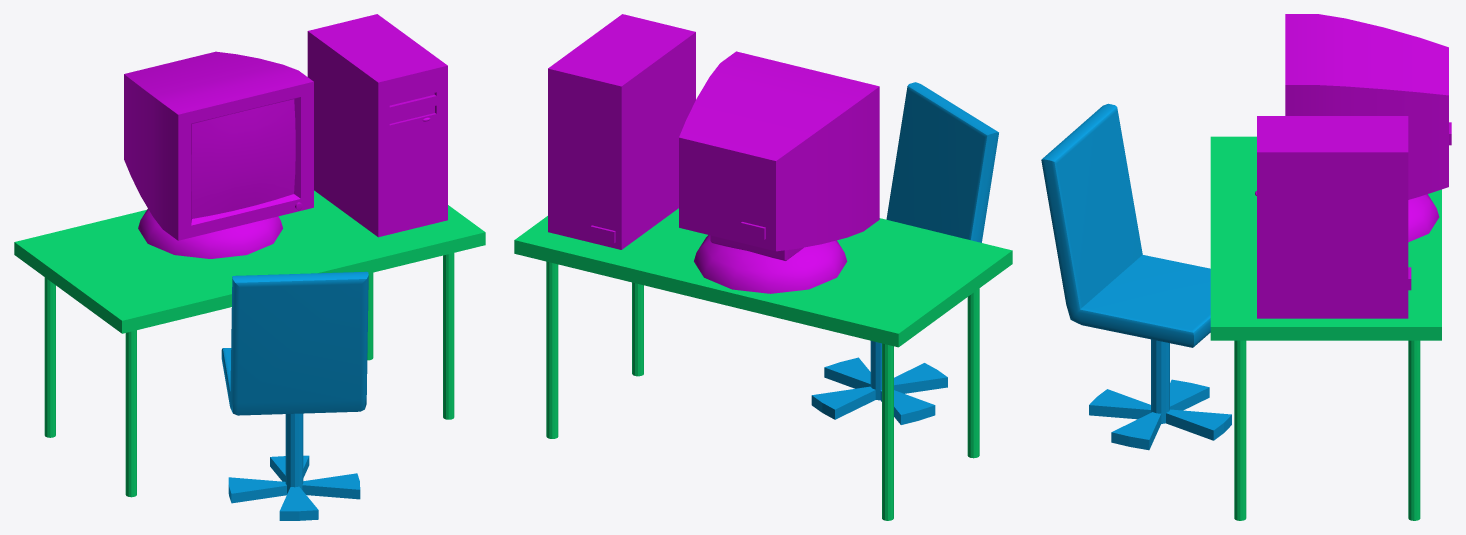
The model's file is gamejam_00.fbx.
The picture shows the model from 3 angles, left to right: view 1: azimuth 30°, elevation 25°; view 2: azimuth 150°, elevation 25°; view 3: azimuth 270°, elevation 25°; orthographic projection. The views are drawn at different scales.
Visible parts, largest first — view 1: table, pCube4, pCube2, seat, pCube3, leg, pSphere1, leg3, leg4, leg2, leg1; view 2: pCube2, pCube4, table, seat, pSphere1, leg, leg1, leg4, leg2, leg3, pCube1; view 3: pCube4, seat, pCube2, table, leg, leg1, leg3, pSphere1.
Part boxes in pixels (bbox=[...]): table: bbox=[14, 190, 485, 333]; pCube4: bbox=[307, 14, 447, 237]; pCube2: bbox=[124, 51, 313, 240]; seat: bbox=[221, 271, 368, 415]; pCube3: bbox=[191, 99, 295, 218]; leg: bbox=[228, 413, 360, 520]; pSphere1: bbox=[138, 209, 282, 258]; leg3: bbox=[443, 253, 454, 419]; leg4: bbox=[125, 330, 136, 497]; leg2: bbox=[44, 277, 55, 437]; leg1: bbox=[367, 272, 373, 360]; pCube2: bbox=[679, 51, 879, 251]; pCube4: bbox=[548, 14, 695, 249]; table: bbox=[514, 208, 1012, 347]; seat: bbox=[886, 82, 998, 242]; pSphere1: bbox=[694, 235, 847, 293]; leg: bbox=[811, 341, 947, 424]; leg1: bbox=[546, 261, 558, 438]; leg4: bbox=[967, 288, 979, 458]; leg2: bbox=[882, 343, 893, 520]; leg3: bbox=[632, 282, 643, 376]; pCube1: bbox=[710, 235, 803, 260]; pCube4: bbox=[1257, 116, 1408, 318]; seat: bbox=[1041, 103, 1210, 347]; pCube2: bbox=[1285, 14, 1448, 199]; table: bbox=[1210, 136, 1441, 340]; leg: bbox=[1089, 339, 1231, 450]; leg1: bbox=[1408, 340, 1420, 520]; leg3: bbox=[1234, 340, 1246, 520]; pSphere1: bbox=[1408, 194, 1439, 242].
Size of the model in its own units: 3.56 by 3.28 by 3.24.
